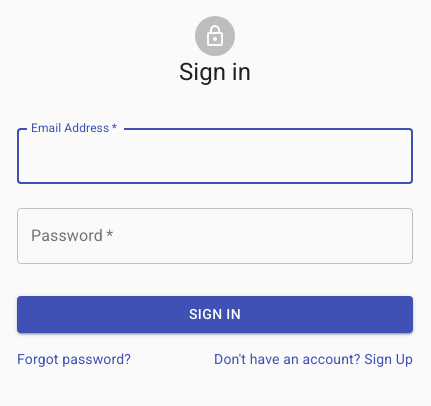
Test: Signin › email input indicates non-registered account errors with non-registered account input
The image size is (431, 406).
Type "nonUser@gmail.com" into the field with test id "email-signin" at x=215, y=156, box [17,128,413,184]
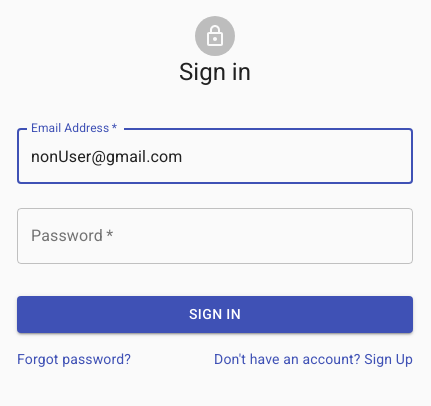
Type "zxcvbnm123" into the password field with test id "password-signin" at x=215, y=236, box [17,208,413,264]
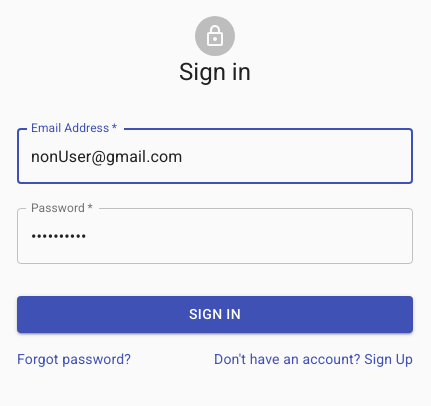
Click the button at x=215, y=314, box [17,296,413,332]
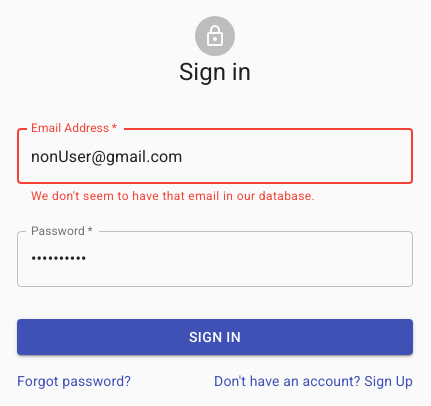
Check: the text "We don't seem to have that email in our database." is shown, box [31,189,315,203]
